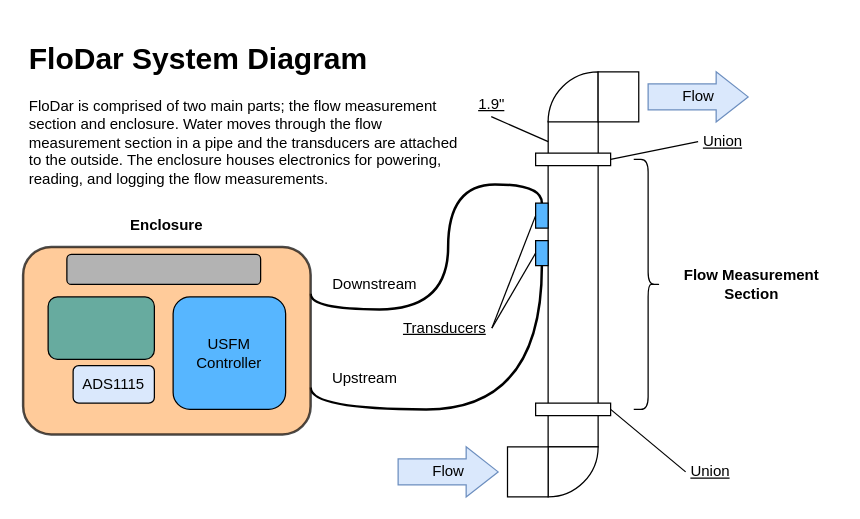
This 860x519 diagram has some shape labels left out. Each missing label, with the box of its shape:
Battery: (66, 253, 261, 284)
Feather & Hypnos: (47, 296, 154, 359)
